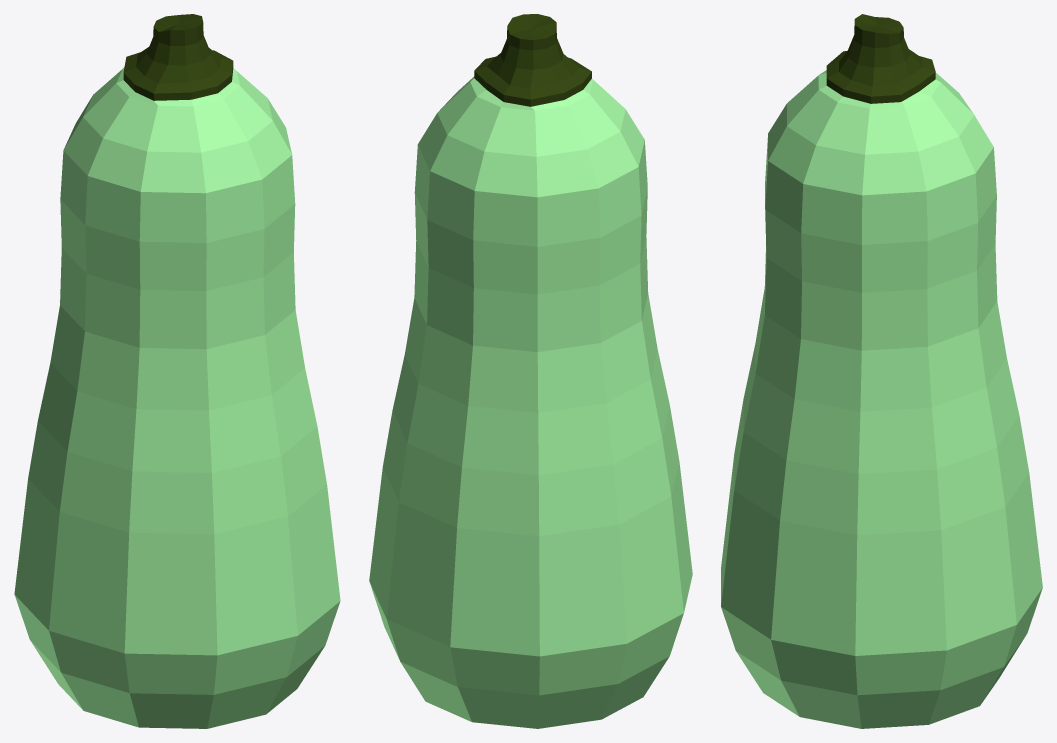
The model's file is zucchini.fbx.
The picture shows the model from 3 angles, left to right: view 1: azimuth 30°, elevation 25°; view 2: azimuth 150°, elevation 25°; view 3: azimuth 270°, elevation 25°; orthographic projection.
Visible parts, largest first — view 1: Sphere; view 2: Sphere; view 3: Sphere.
Part boxes in pixels (left/top/right/bottom): Sphere: left=14, top=14, right=340, bottom=728; Sphere: left=369, top=14, right=692, bottom=728; Sphere: left=721, top=14, right=1042, bottom=728.
Bounding box in the file's own units: 212 × 493 × 210.
Materials: 1 (1 with a texture image).
